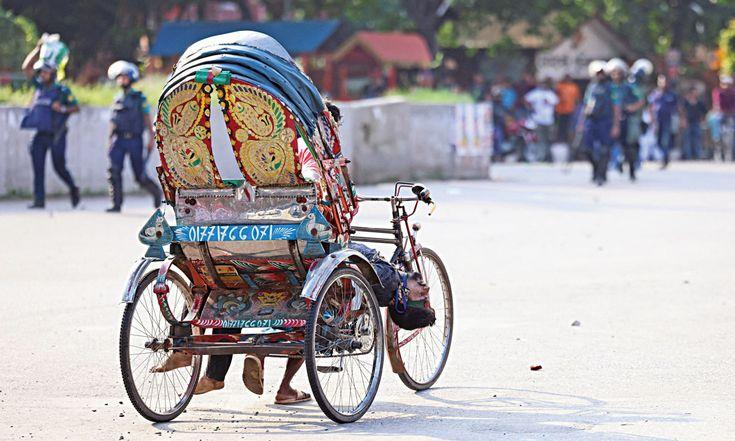Rickshaw: (120, 32, 452, 421)
